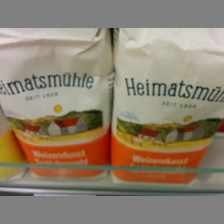flour: (110, 29, 224, 184), (1, 28, 113, 178)
